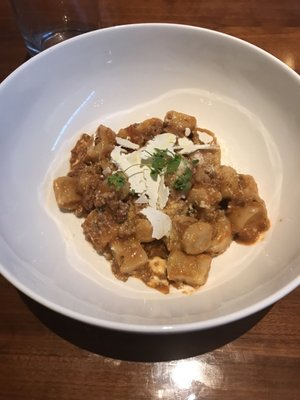sushi: (0, 22, 300, 356)
